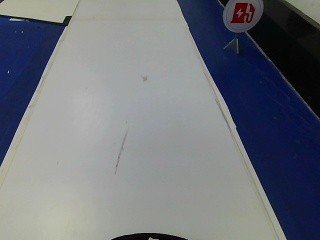battery: (221, 0, 260, 38)
